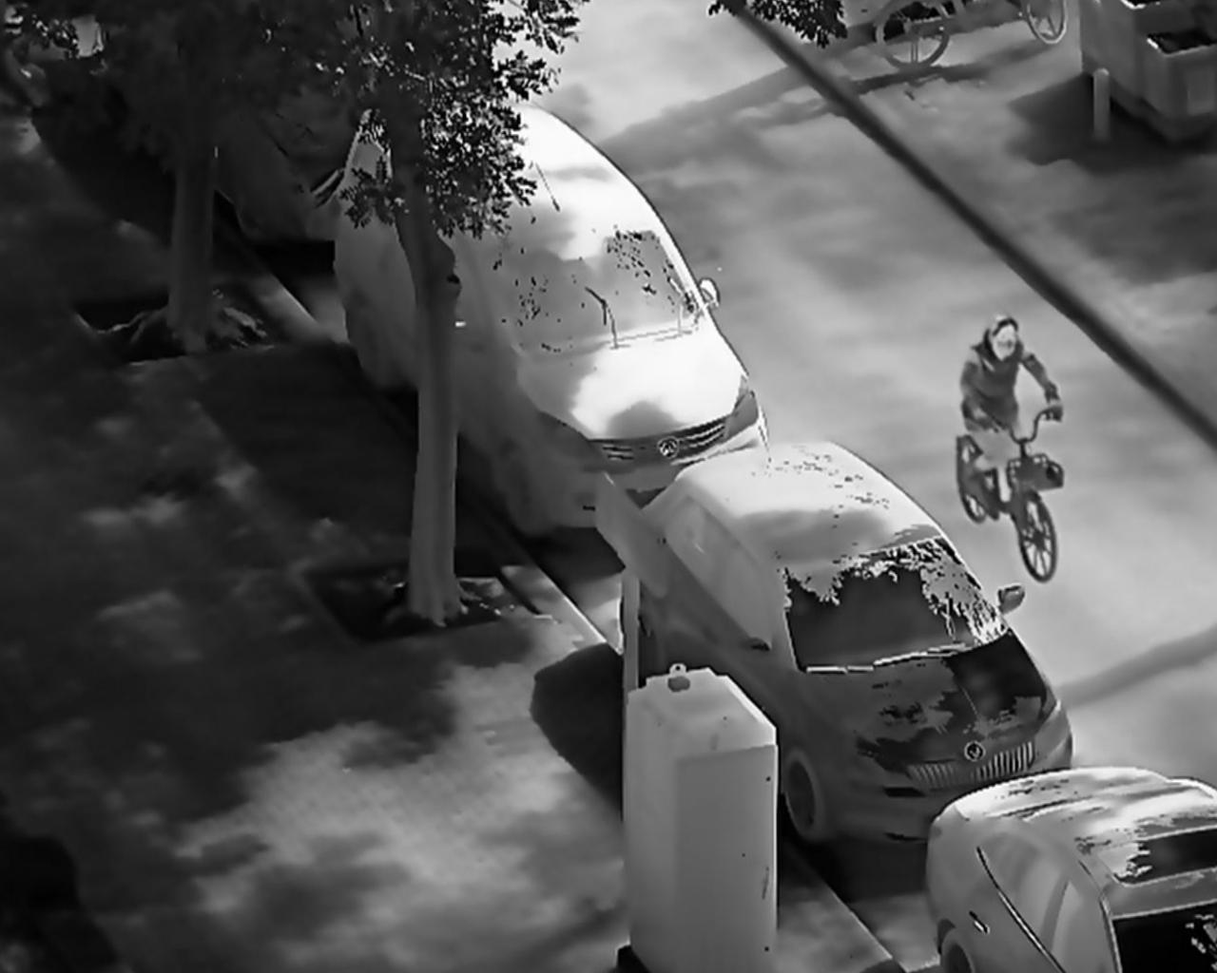person: (957, 309, 1064, 530)
